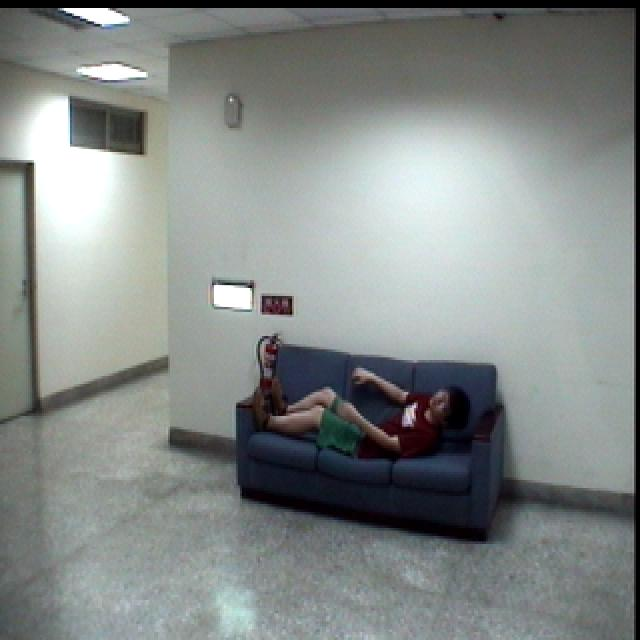lie: (244, 364, 470, 460)
